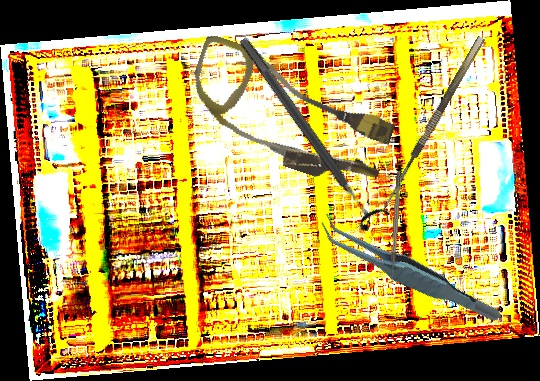Cannula: (175, 33, 404, 196)
Fixation Ring: (228, 28, 392, 235)
Hook Surgical: (378, 35, 495, 219), (389, 170, 402, 282)
Tissue Forceps: (313, 184, 505, 358)
